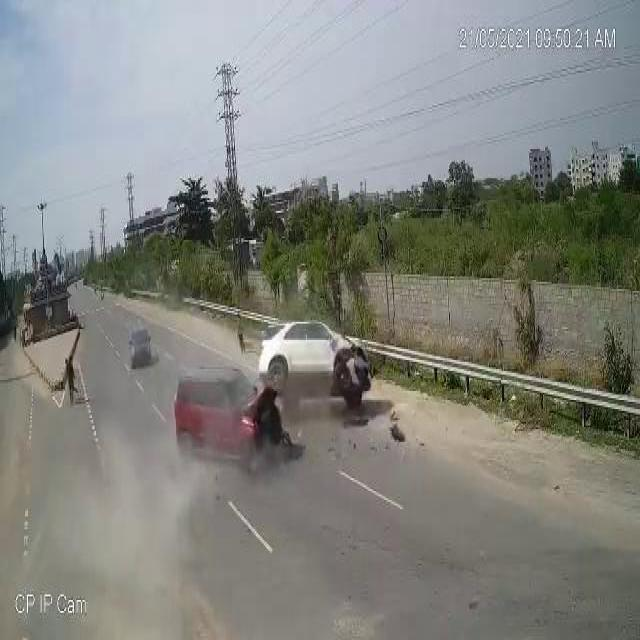accident: (166, 295, 407, 486)
